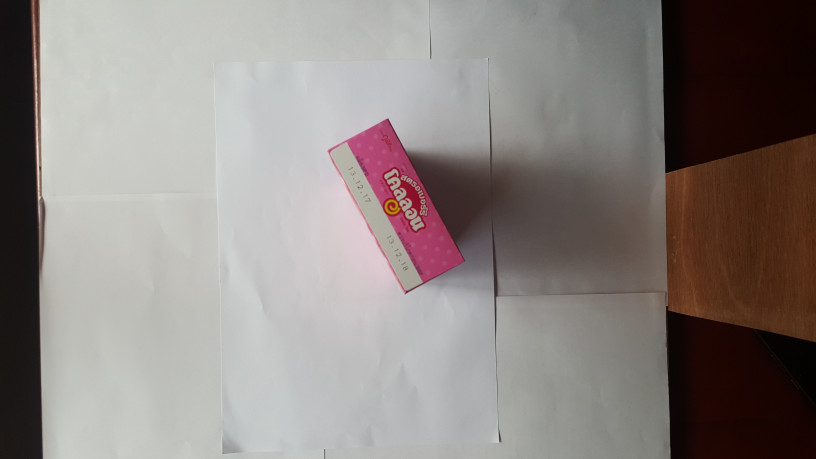collon-strawberry: (328, 119, 466, 296)
